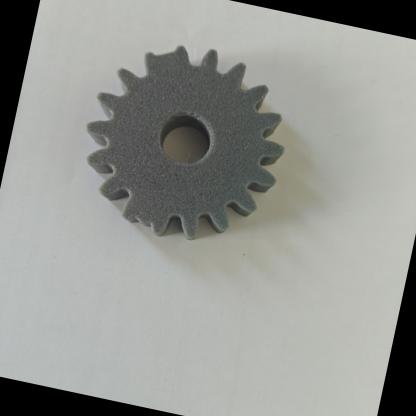defect: (97, 186, 206, 260), (119, 32, 204, 95)
gear: (55, 14, 323, 283)
